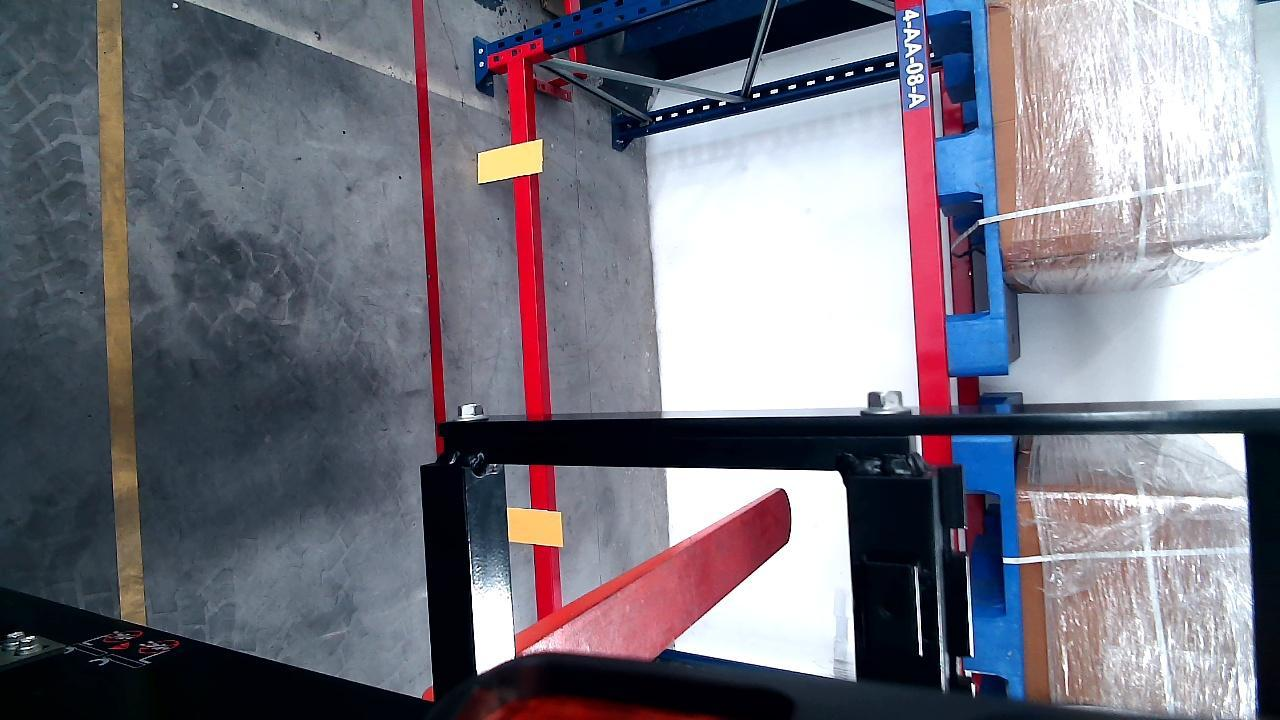red_line: (413, 0, 446, 433)
yellow_line: (96, 0, 141, 632)
